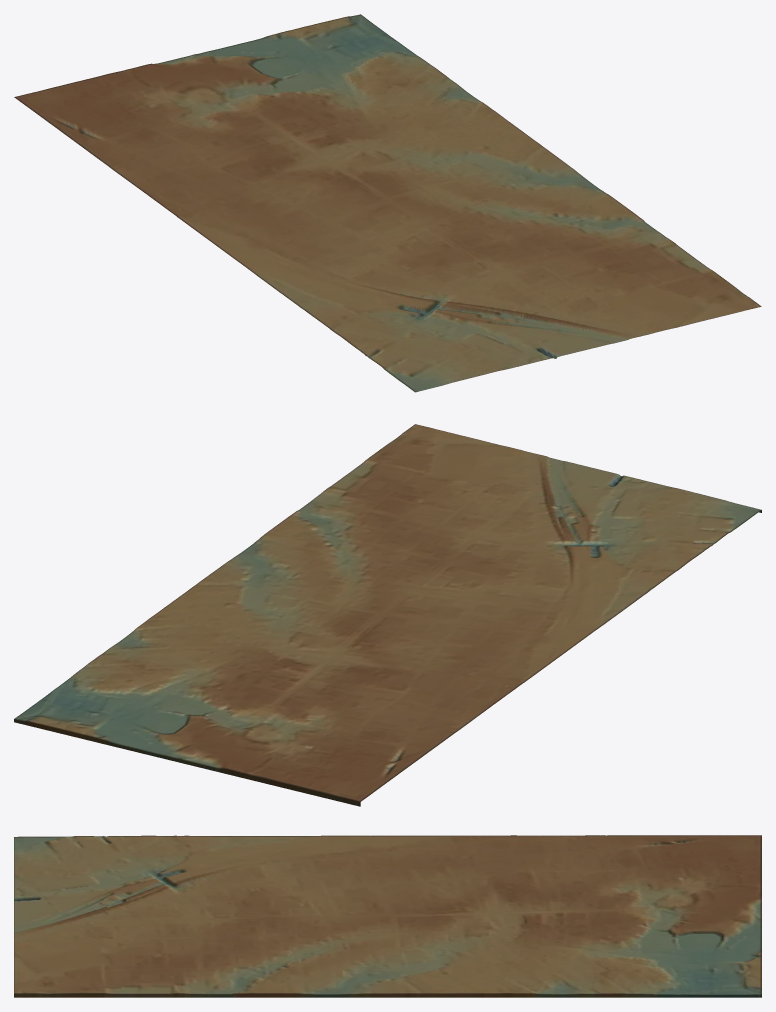
Rendered from terrain.glb.
3 views of the same model, one above another, from view 1: azimuth 30°, elevation 25°; view 2: azimuth 150°, elevation 25°; view 3: azimuth 270°, elevation 25° (orthographic). The views are drawn at different scales.
Visible parts, largest first — view 1: 地形; view 2: 地形; view 3: 地形.
Part boxes in pixels (x1,y1,x2,y2): 地形: (14, 14, 761, 392); 地形: (14, 424, 761, 806); 地形: (14, 835, 761, 997).
Bounding box in the file's own units: 1350 × 19.81 × 2705.
Materials: 1 (1 with a texture image).
